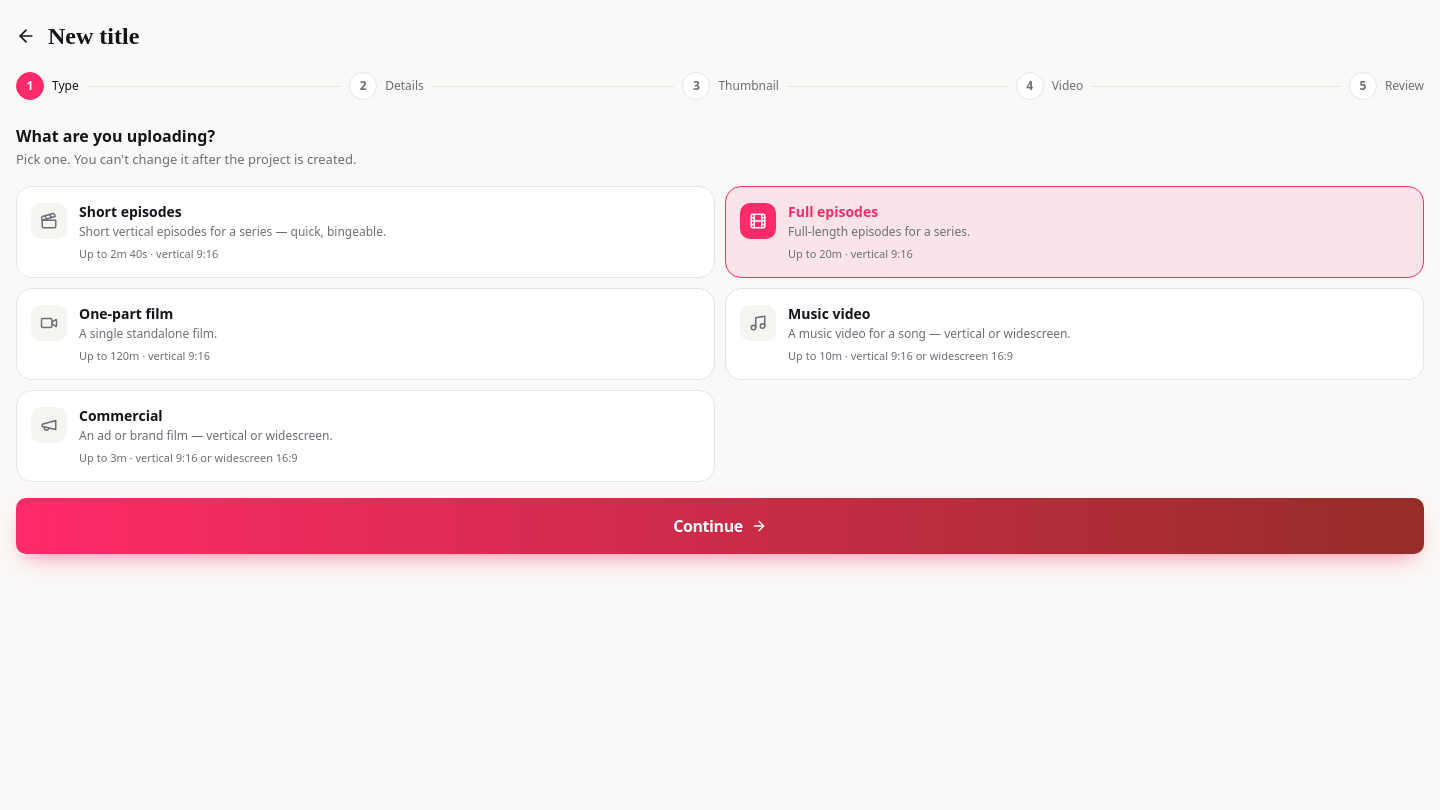
Test: safe to deploy before the database migration is applied › picking a new content type before the enum exists gives a clear explanation, not a raw database error
Click the button "Music video" at (758, 322), box 725,288 -> 1424,380
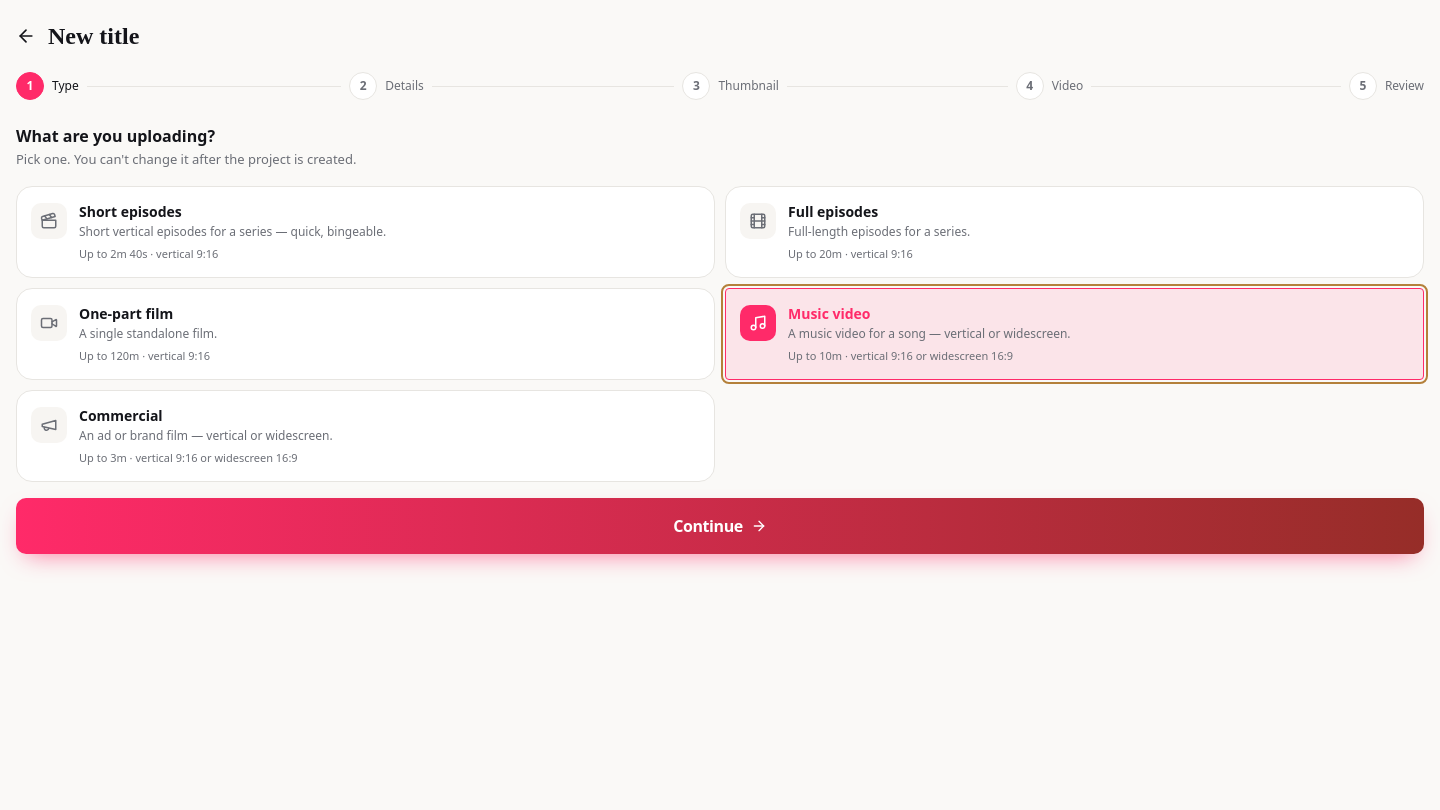
Click the button "Continue" at (720, 526), box 16,498 -> 1424,554
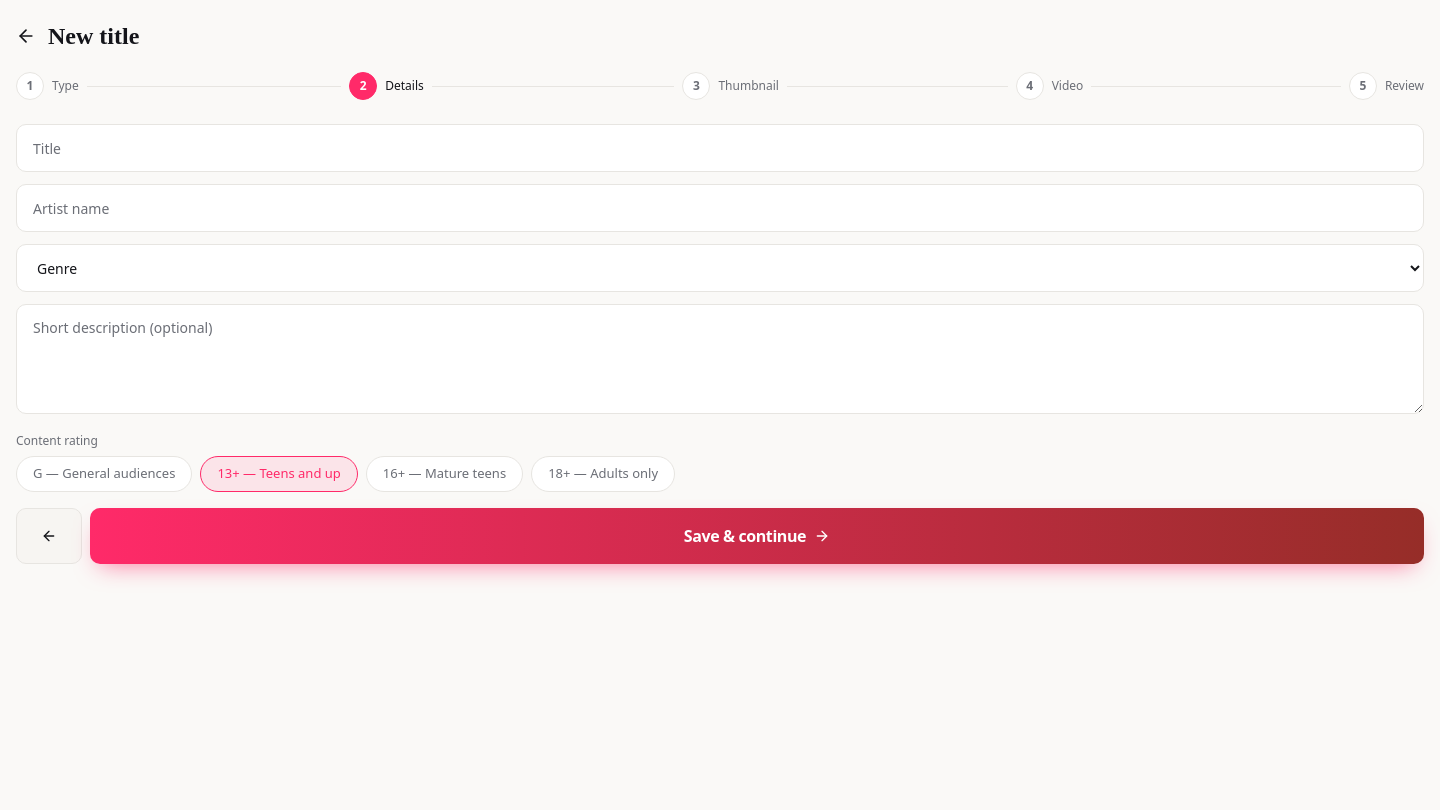
Type "Early" into the field with placeholder "Title" at (720, 148), box 16,124 -> 1424,172
Type "Someone" into the field with placeholder "Artist name" at (720, 208), box 16,184 -> 1424,232
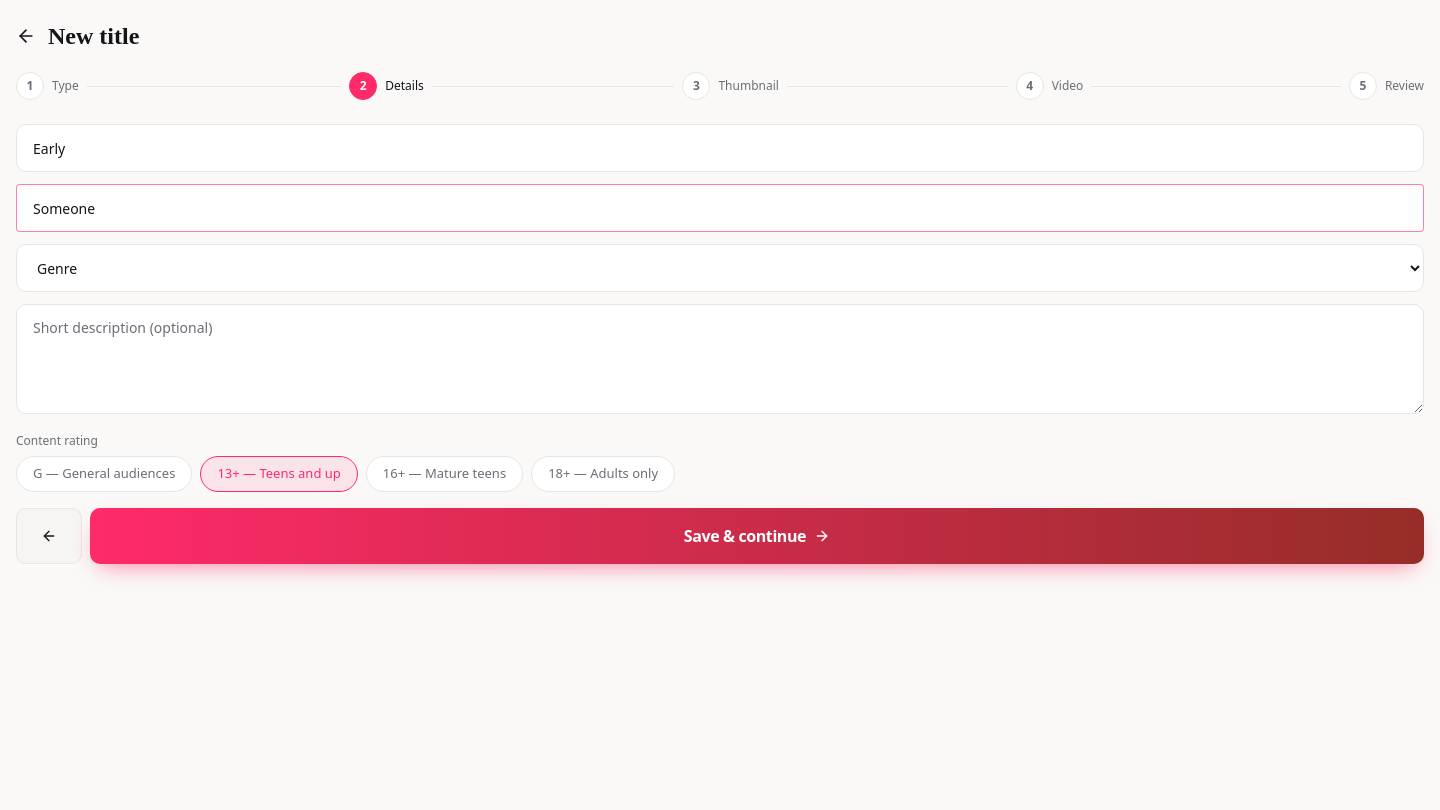
Select "Afrobeats" in the dropdown named "Genre" at (720, 268), box 16,244 -> 1424,292
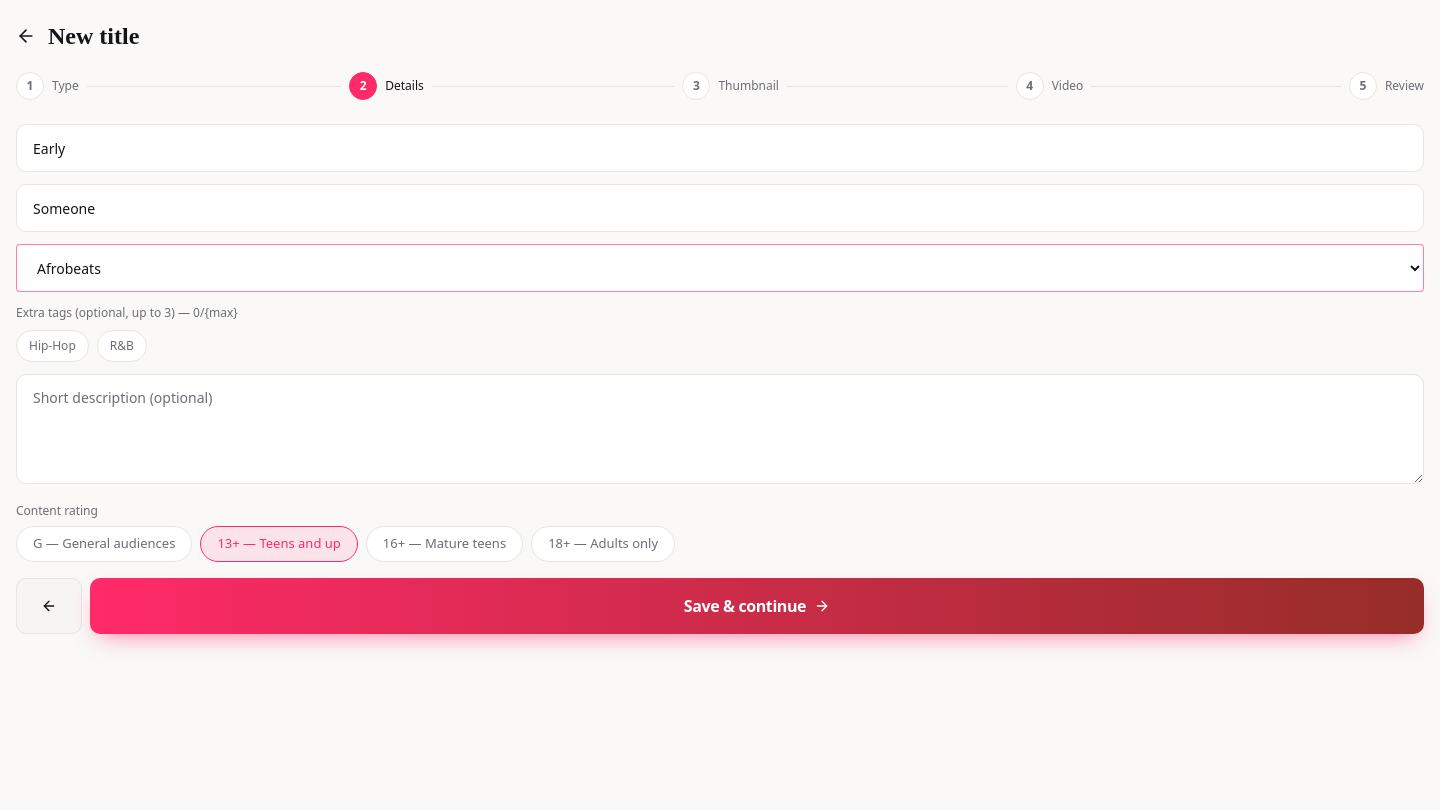
Type "A story." into the text box with placeholder "Short description (optional)" at (720, 429), box 16,374 -> 1424,484
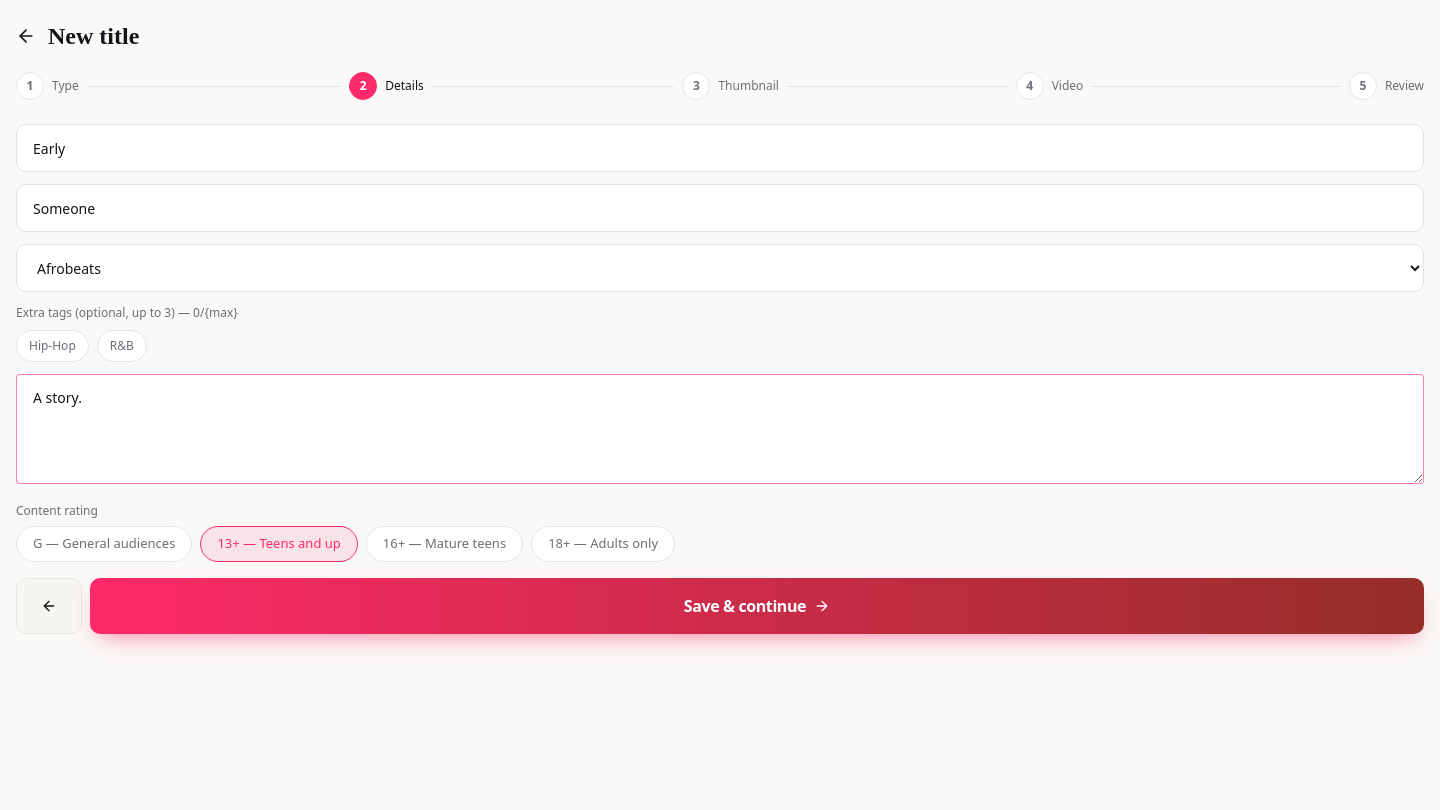
Click the button "Save & continue" at (757, 606), box 90,578 -> 1424,634
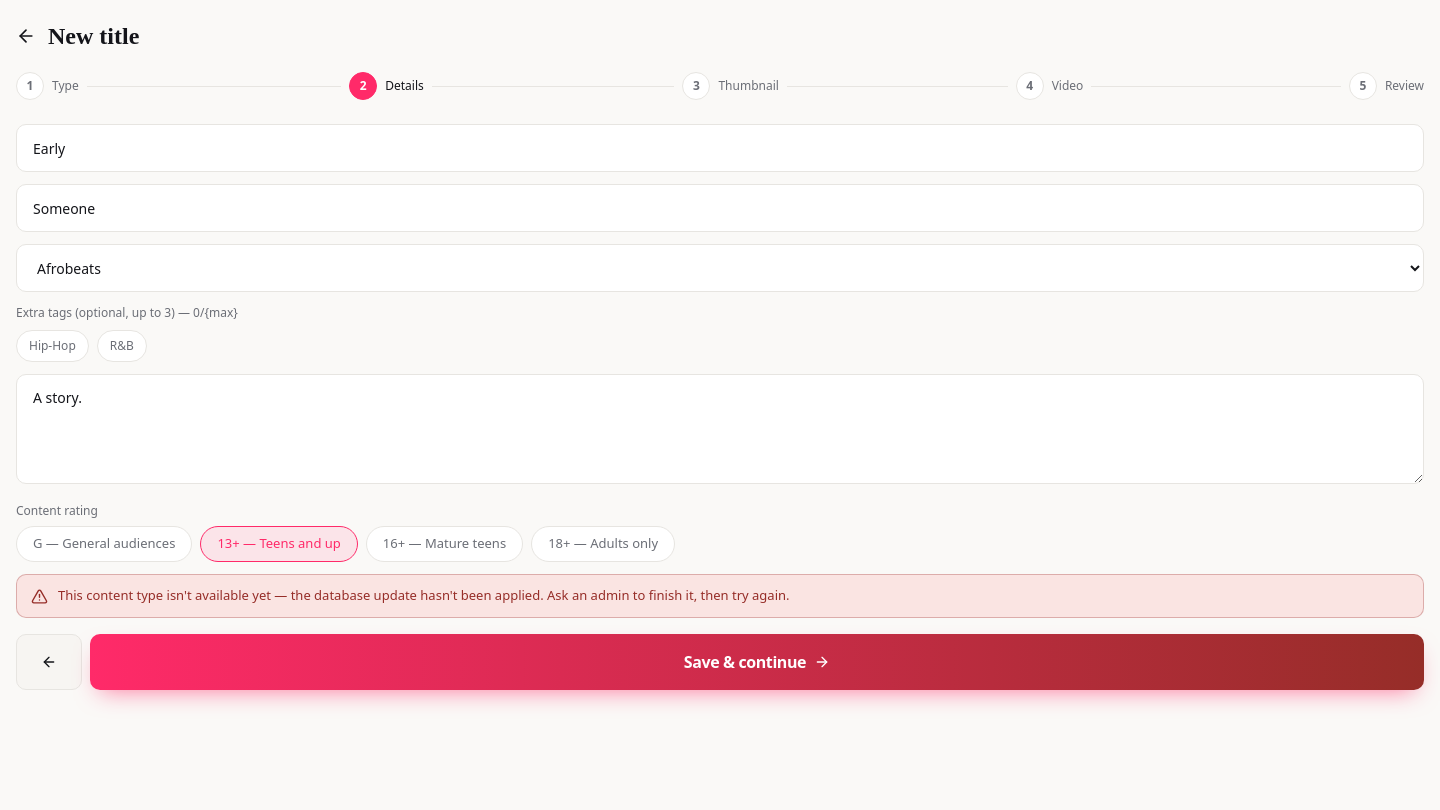
Expected: the message shows "This content type isn't available yet — the database update hasn't been applied. Ask an admin to finish it, then try again.", 58,586 -> 790,604
